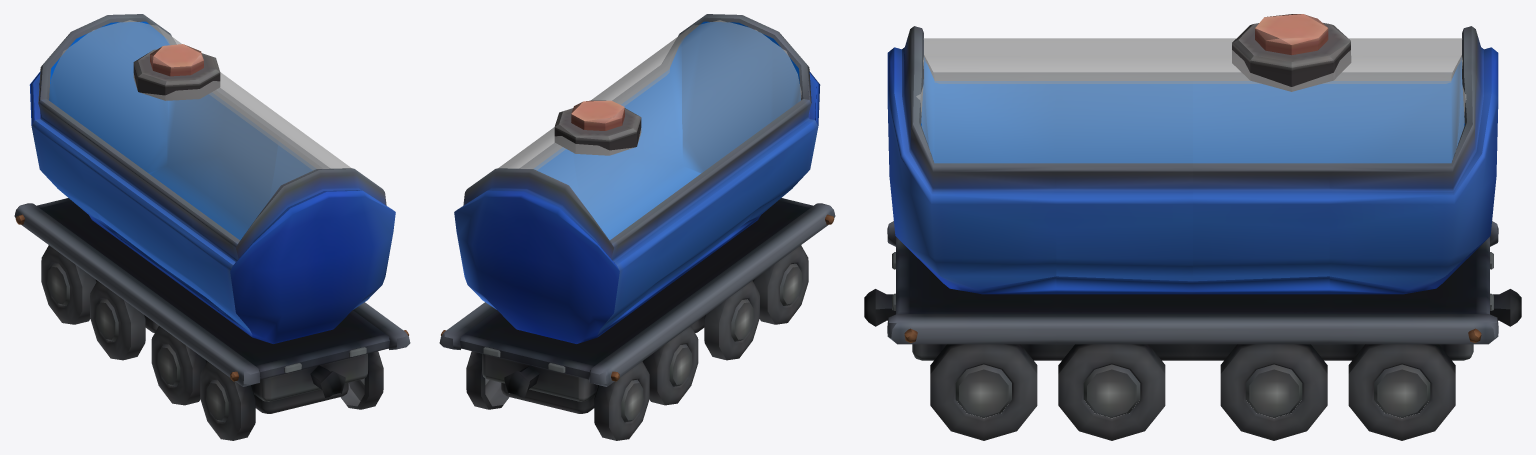
The model's file is new_point火车油罐.glb.
3 renders of one model, left to right at view 1: azimuth 30°, elevation 25°; view 2: azimuth 150°, elevation 25°; view 3: azimuth 270°, elevation 25°, orthographic. The views are drawn at different scales.
Parts seen in each view (by area): view 1: SM_M_火车油罐; view 2: SM_M_火车油罐; view 3: SM_M_火车油罐.
Boxes of the visible parts, x1=… form: SM_M_火车油罐: x1=14, y1=14, x2=410, y2=440; SM_M_火车油罐: x1=439, y1=14, x2=835, y2=440; SM_M_火车油罐: x1=864, y1=14, x2=1521, y2=440.
Bounding box in the file's own units: 1.4 × 2.13 × 3.42.
Materials: 4 (2 with a texture image).
